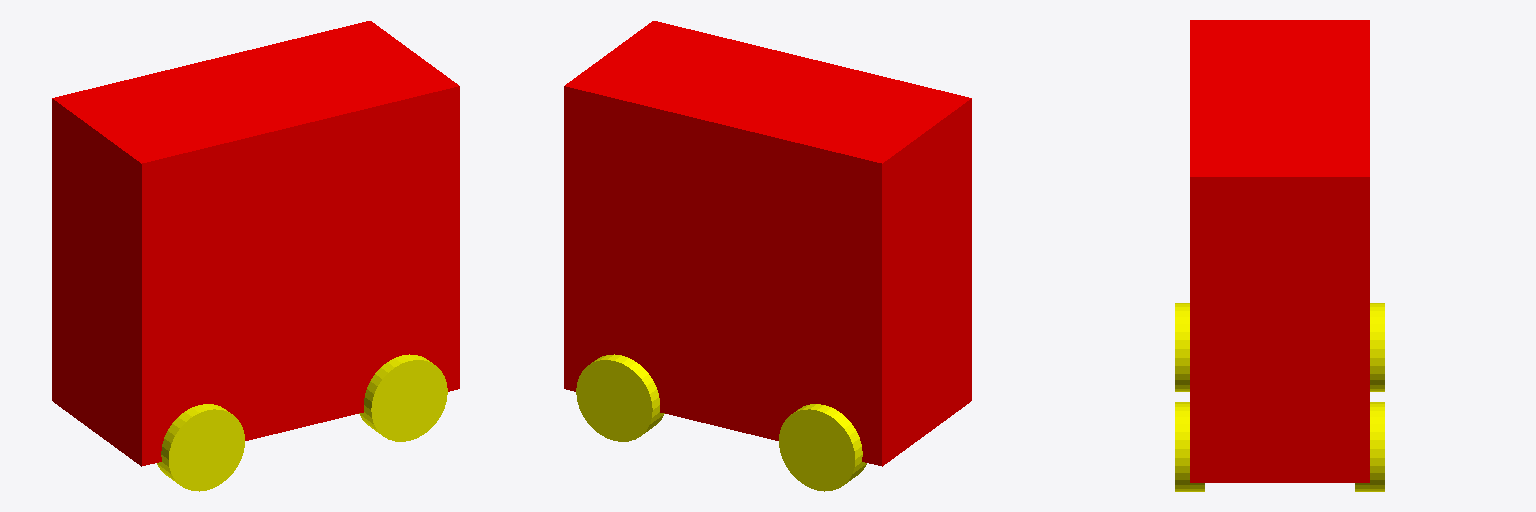
robot.urdf — firefighter:
<?xml version="1.0" ?>
<!-- =================================================================================== -->
<!-- |    This document was autogenerated by xacro from mevi.xacro                     | -->
<!-- |    EDITING THIS FILE BY HAND IS NOT RECOMMENDED                                 | -->
<!-- =================================================================================== -->
<robot name="firefighter">
  <!-- THIS IS A BODY LINK -->
  <link name="body_link">
    <visual>
      <origin rpy="0 0 0" xyz="0 0 0"/>
      <geometry>
        <box size="1.54 0.75 1.4"/>
      </geometry>
      <material name="red">
            <color rgba="1 0 0 1"/>                
        </material>
    </visual>
  </link>

  <!-- THIS IS A WHEEL JOINT -->
  <joint name="frontwheel_lw_joint" type="continuous">
    <parent link="body_link"/>
    <child link="frontwheel_lw_link"/>
    <origin rpy="0 0 0 " xyz="-0.490 -0.375 -0.665"/>
    <axis xyz="0 1 0"/>
    <!-- axis y rotation-->
  </joint>

  <joint name="frontwheel_rw_joint" type="continuous">
    <parent link="body_link"/>
    <child link="frontwheel_rw_link"/>
    <origin rpy="0 0 0 " xyz="-0.490 0.375 -0.665"/>
    <axis xyz="0 1 0"/>
    <!-- axis y rotation-->
  </joint>
  
  <joint name="rearwheel_lw_joint" type="continuous">
    <parent link="body_link"/>
    <child link="rearwheel_lw_link"/>
    <origin rpy="0 0 0 " xyz="0.490 -0.375 -0.665"/>
    <axis xyz="0 1 0"/>
    <!-- axis y rotation-->
  </joint>

  <joint name="rearwheel_rw_joint" type="continuous">
    <parent link="body_link"/>
    <child link="rearwheel_rw_link"/>
    <origin rpy="0 0 0 " xyz="0.490 0.375 -0.665"/>
    <axis xyz="0 1 0"/>
    <!-- axis y rotation-->
  </joint>
  

  <!-- ####################### -->
  <!-- THIS IS A WHEEL LINK -->
  <link name="frontwheel_lw_link">
    <visual>
      <origin rpy="1.570795 0 0" xyz="0 0 0"/>
      <!-- rotation on x as degree on radians (1.570795 is 90 degree in euler)-->
      <geometry>
        <cylinder length="0.125" radius="0.185"/>
      </geometry>
      <material name="yellow">
              <color rgba="1 1 0 1"/>                
          </material>
    </visual>
  </link>

  <link name="frontwheel_rw_link">
    <visual>
      <origin rpy="1.570795 0 0" xyz="0 0 0"/>
      <!-- rotation on x as degree on radians (1.570795 is 90 degree in euler)-->
      <geometry>
        <cylinder length="0.125" radius="0.185"/>
      </geometry>
      <material name="yellow">
            <color rgba="1 1 0 1"/>                
        </material>
    </visual>
  </link>

  <link name="rearwheel_lw_link">
    <visual>
      <origin rpy="1.570795 0 0" xyz="0 0 0"/>
      <!-- rotation on x as degree on radians (1.570795 is 90 degree in euler)-->
      <geometry>
        <cylinder length="0.125" radius="0.185"/>
      </geometry>
      <material name="yellow">
            <color rgba="1 1 0 1"/>                
        </material>
    </visual>
  </link>

  <link name="rearwheel_rw_link">
    <visual>
      <origin rpy="1.570795 0 0" xyz="0 0 0"/>
      <!-- rotation on x as degree on radians (1.570795 is 90 degree in euler)-->
      <geometry>
        <cylinder length="0.125" radius="0.185"/>
      </geometry>
      <material name="yellow">
            <color rgba="1 1 0 1"/>                
        </material>
    </visual>
  </link>
  <!-- ####################### -->
</robot>

--- Facts derived from the render (not from the file) ---
The picture shows the robot from 3 angles, left to right: view 1: azimuth 30°, elevation 25°; view 2: azimuth 150°, elevation 25°; view 3: azimuth 270°, elevation 25°; orthographic projection.
Model firefighter with 5 links and 4 joints (4 continuous), rooted at body_link, posed every joint at zero.
Visible links, largest first — view 1: body_link, rearwheel_lw_link, frontwheel_lw_link; view 2: body_link, rearwheel_rw_link, frontwheel_rw_link; view 3: body_link, rearwheel_lw_link, rearwheel_rw_link, frontwheel_lw_link, frontwheel_rw_link.
Boxes of the visible links, box(x1,y1,x2,y2) form: body_link: box(52, 21, 459, 466); rearwheel_lw_link: box(359, 354, 447, 441); frontwheel_lw_link: box(157, 404, 244, 491); body_link: box(564, 21, 971, 466); rearwheel_rw_link: box(576, 354, 664, 441); frontwheel_rw_link: box(779, 404, 866, 491); body_link: box(1190, 20, 1369, 482); rearwheel_lw_link: box(1175, 402, 1204, 491); rearwheel_rw_link: box(1355, 402, 1384, 491); frontwheel_lw_link: box(1175, 303, 1189, 391); frontwheel_rw_link: box(1370, 303, 1384, 391).
Size in the robot's own frame: 1.54 by 0.875 by 1.55 metres.
Geometry: primitives only (box / cylinder / sphere), no mesh files.